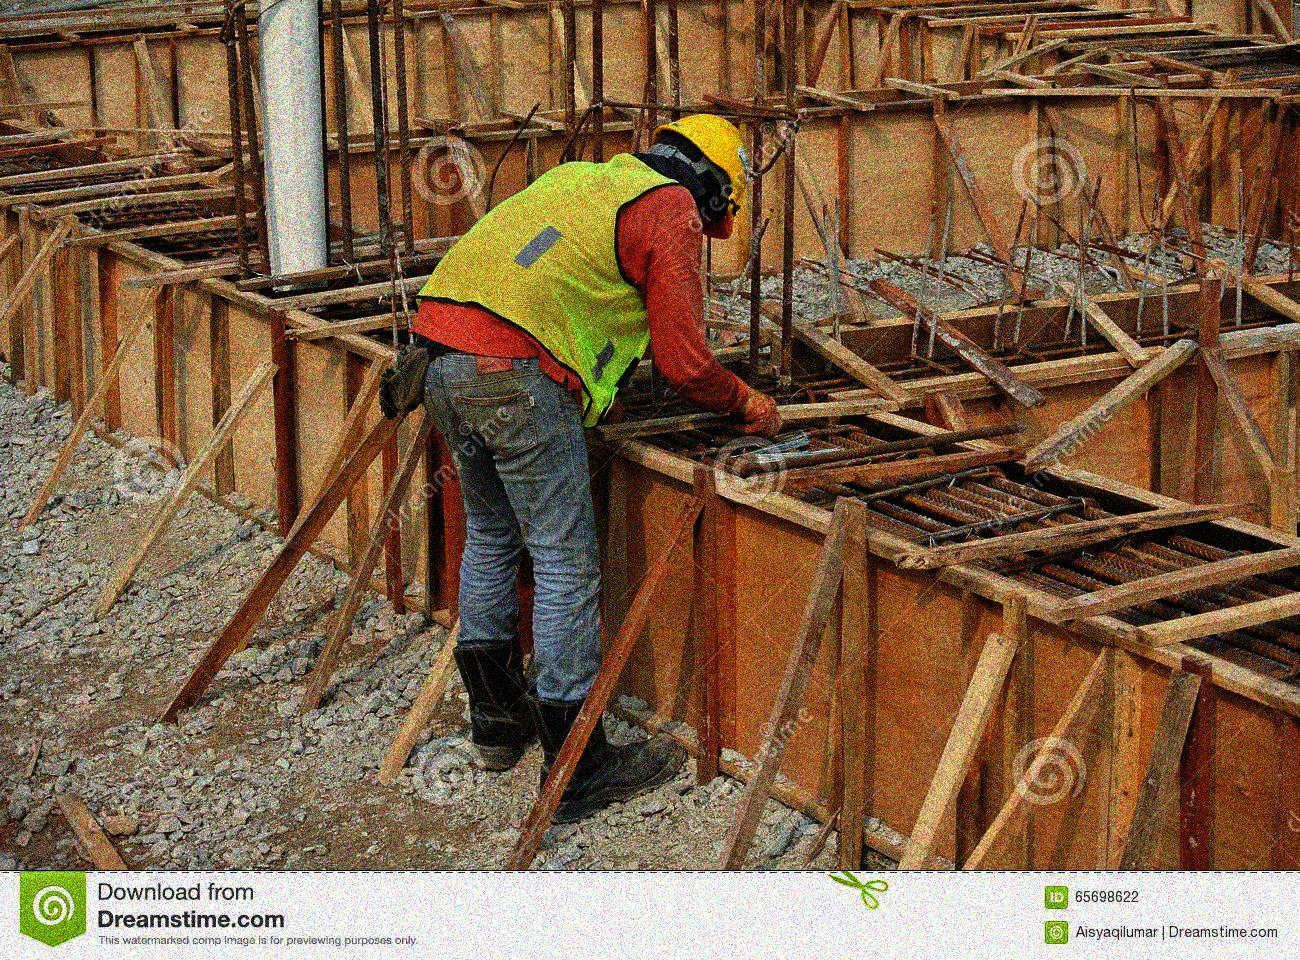helmet: (648, 108, 752, 239)
